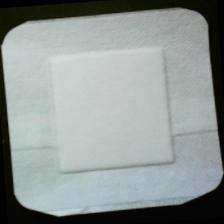Dressing: (1, 1, 224, 221)
